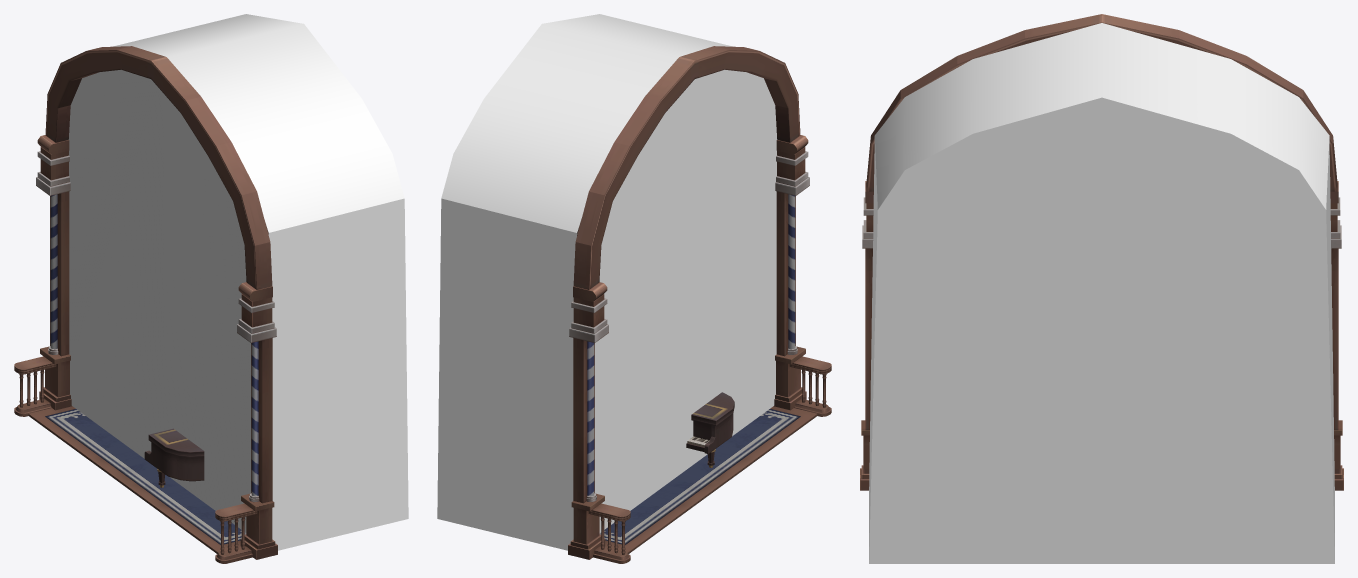
Rendered from my_wildhunt_01_wallcc_01.glb.
3 renders of one model, left to right at view 1: azimuth 30°, elevation 25°; view 2: azimuth 150°, elevation 25°; view 3: azimuth 270°, elevation 25°, orthographic. The views are drawn at different scales.
Parts seen in each view (by area): view 1: my_wildhunt_01_wallcc_01_cover, my_wildhunt_01_wallcc_01_hole, my_wildhunt_01_wallcc_01, my_wildhunt_01_wallcc_01_out; view 2: my_wildhunt_01_wallcc_01_cover, my_wildhunt_01_wallcc_01_hole, my_wildhunt_01_wallcc_01, my_wildhunt_01_wallcc_01_out; view 3: my_wildhunt_01_wallcc_01_cover, my_wildhunt_01_wallcc_01.
Boxes of the visible parts, x1,y1,x2,y2 form: my_wildhunt_01_wallcc_01_cover: [113, 14, 408, 550]; my_wildhunt_01_wallcc_01_hole: [68, 69, 250, 532]; my_wildhunt_01_wallcc_01: [14, 46, 277, 563]; my_wildhunt_01_wallcc_01_out: [28, 223, 268, 553]; my_wildhunt_01_wallcc_01_cover: [437, 14, 732, 550]; my_wildhunt_01_wallcc_01_hole: [595, 69, 777, 532]; my_wildhunt_01_wallcc_01: [568, 46, 831, 563]; my_wildhunt_01_wallcc_01_out: [577, 219, 817, 553]; my_wildhunt_01_wallcc_01_cover: [869, 23, 1334, 563]; my_wildhunt_01_wallcc_01: [860, 14, 1343, 490].
Bounding box in the file's own units: 0.0202 × 0.0431 × 0.0405.
Materials: 4 (2 with a texture image).
